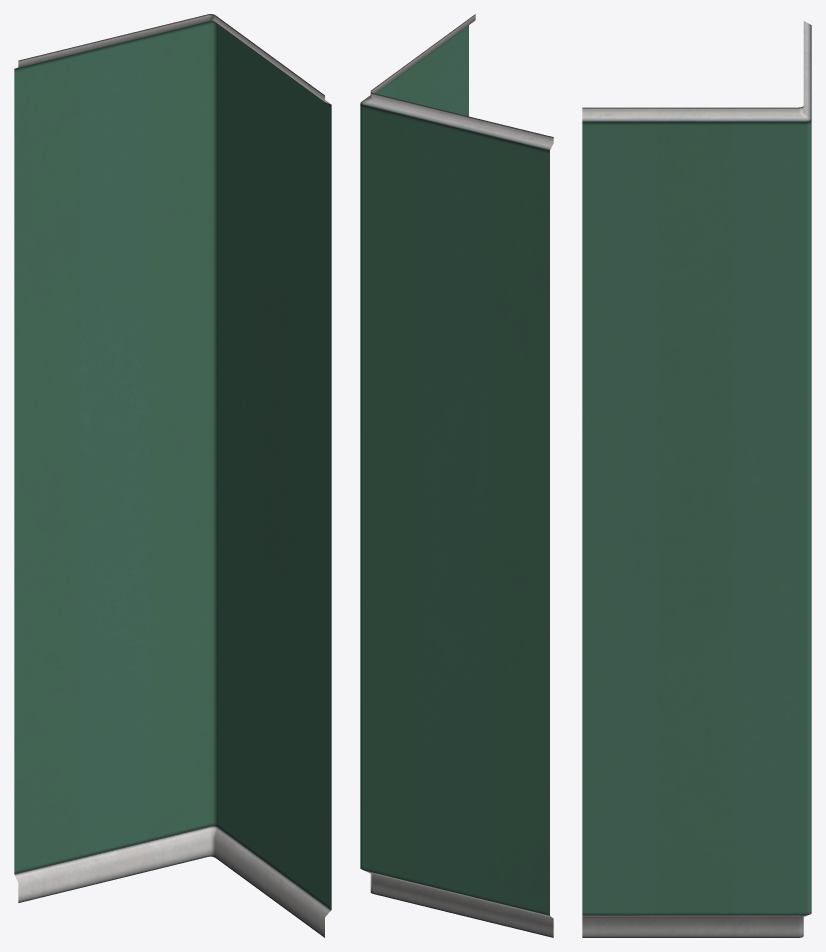
File: livingroom_concave_short.dae
The picture shows the model from 3 angles, left to right: view 1: azimuth 30°, elevation 25°; view 2: azimuth 150°, elevation 25°; view 3: azimuth 270°, elevation 25°; orthographic projection. The views are drawn at different scales.
Visible parts, largest first — view 1: waitingroom_concave_short; view 2: waitingroom_concave_short; view 3: waitingroom_concave_short.
Part boxes in pixels (box(x1,y1,x2,y2)): waitingroom_concave_short: box(14, 14, 331, 937); waitingroom_concave_short: box(360, 14, 553, 937); waitingroom_concave_short: box(582, 21, 811, 937).
Size of the model in its own units: 100 by 400 by 100.
